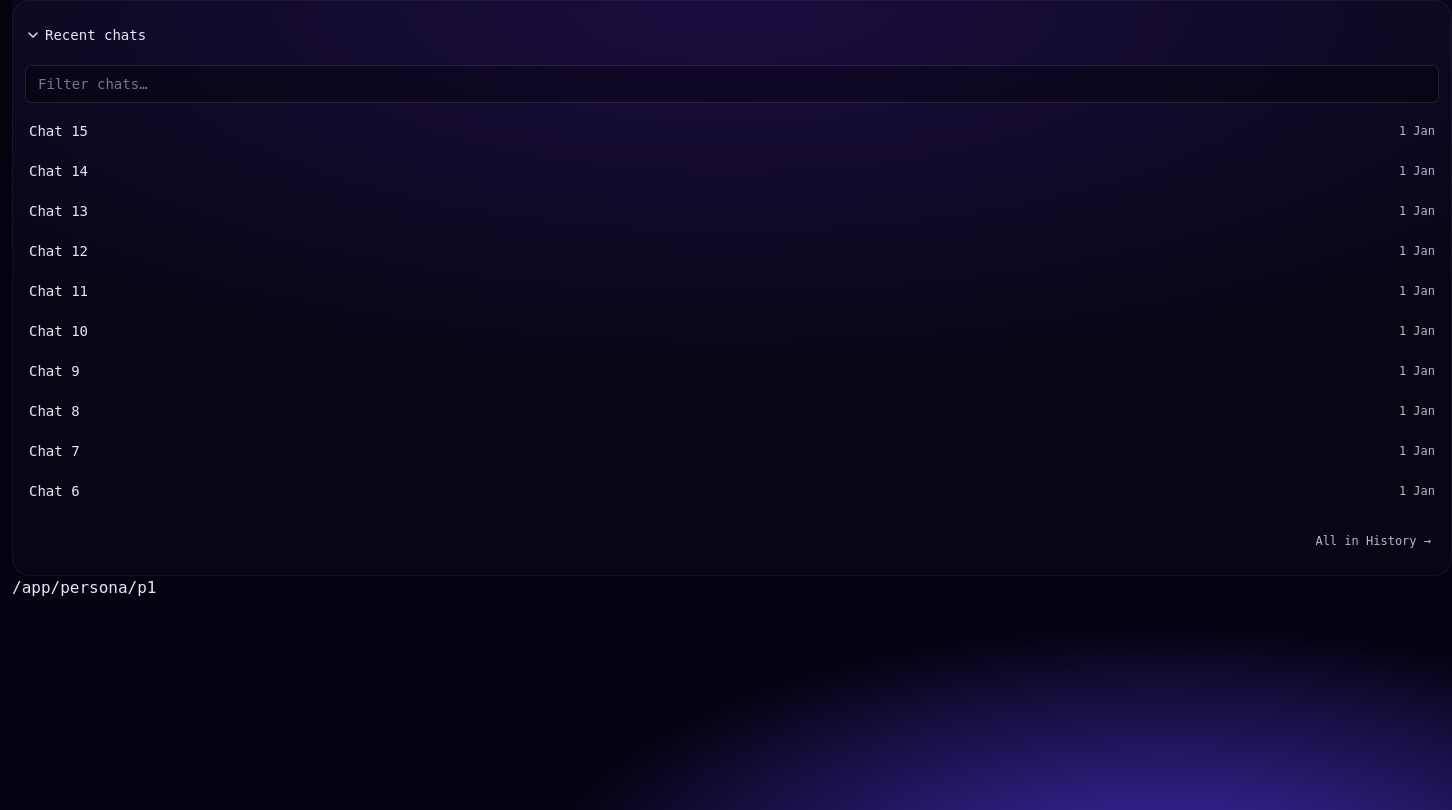
Test: RecentChatsAccordion › no matches: an empty line, and All in History stays
Type "zzz" into the search field labelled "Filter chats" at point(732, 84), box x1=25 y1=65 x2=1439 y2=103
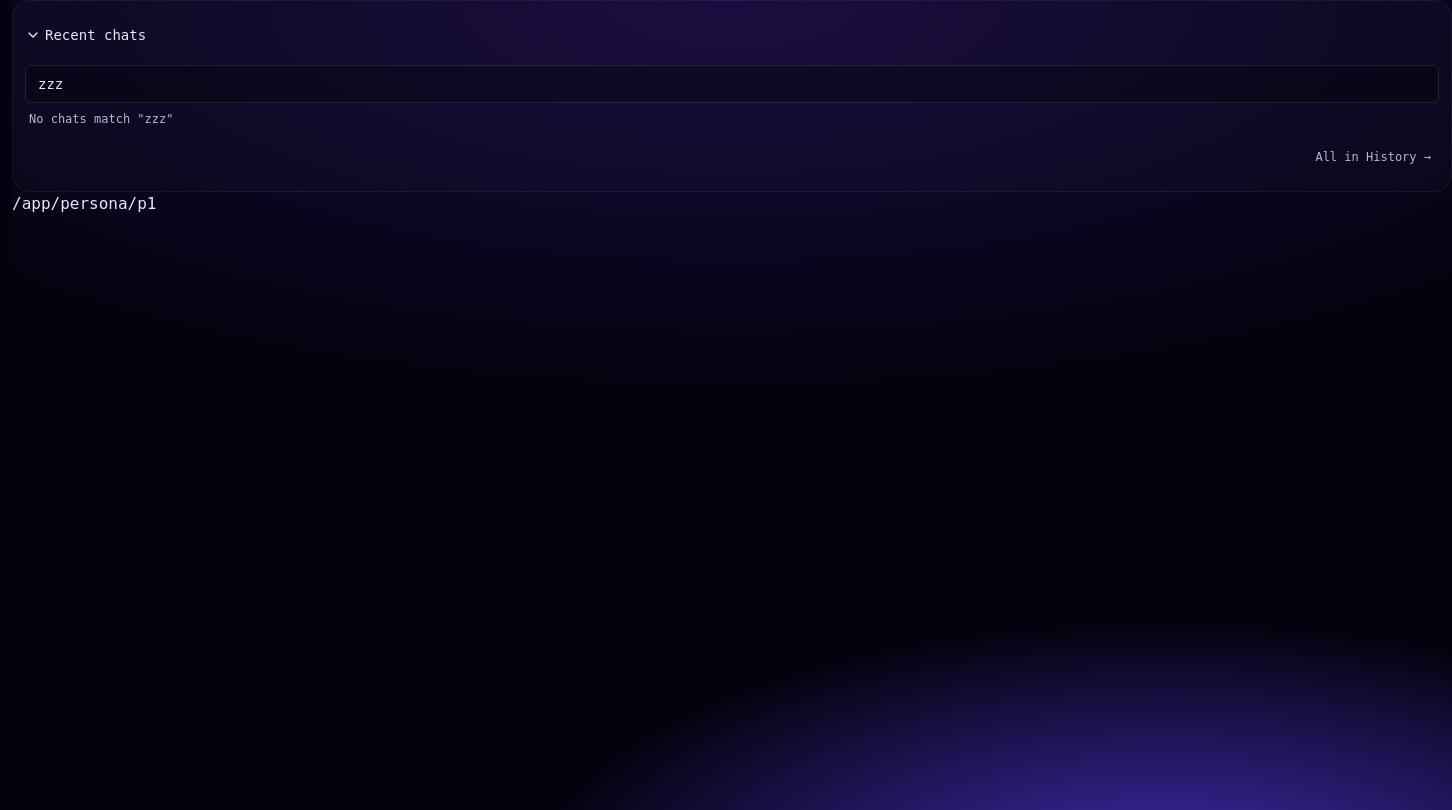
expect the link "All in History →" is shown: met, box x1=1315 y1=150 x2=1431 y2=164
expect the text "No chats match \"zzz\"" is shown: met, box x1=29 y1=112 x2=174 y2=126
